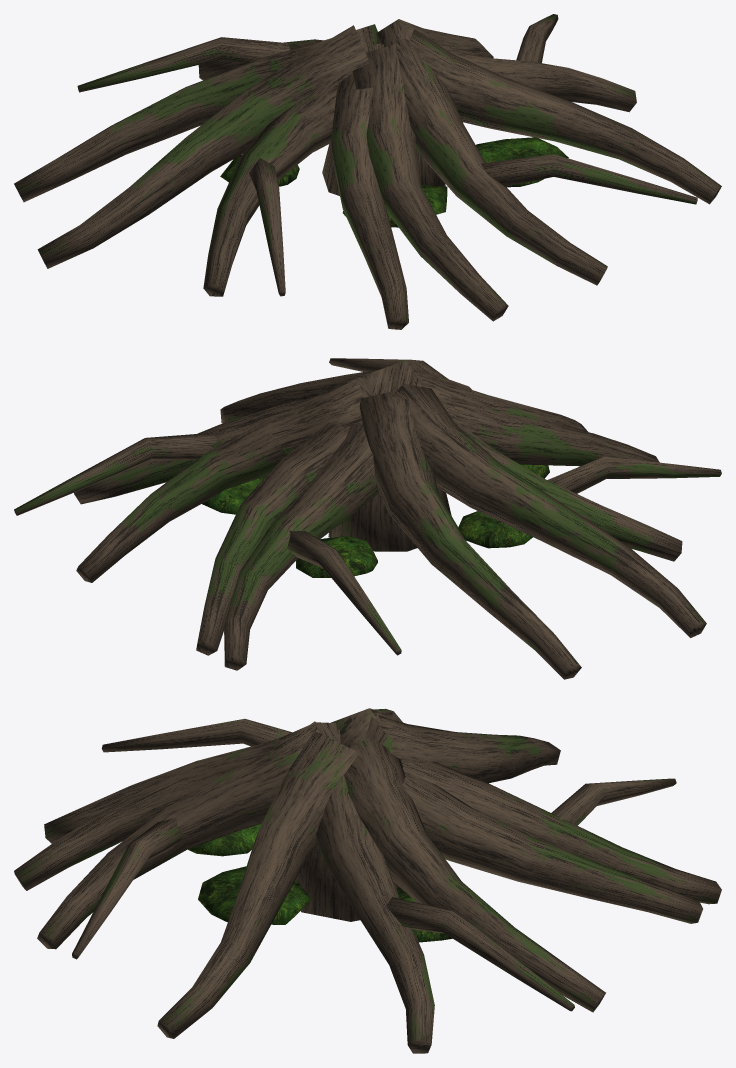
The model's file is Exposed_Roots_B.glb.
3 renders of one model, top to bottom at view 1: azimuth 30°, elevation 25°; view 2: azimuth 150°, elevation 25°; view 3: azimuth 270°, elevation 25°, orthographic. The views are drawn at different scales.
Parts seen in each view (by area): view 1: Exposed_Roots_B__Bark, Exposed_Roots_B__Moss; view 2: Exposed_Roots_B__Bark, Exposed_Roots_B__Moss; view 3: Exposed_Roots_B__Bark, Exposed_Roots_B__Moss.
Part boxes in pixels (bbox=[...]): Exposed_Roots_B__Bark: bbox=[14, 14, 721, 329]; Exposed_Roots_B__Moss: bbox=[220, 137, 568, 227]; Exposed_Roots_B__Bark: bbox=[14, 358, 721, 679]; Exposed_Roots_B__Moss: bbox=[202, 464, 549, 577]; Exposed_Roots_B__Bark: bbox=[14, 708, 721, 1053]; Exposed_Roots_B__Moss: bbox=[188, 824, 452, 942].
Bounding box in the file's own units: 18.68 × 5.12 × 17.25.
2 materials, 2 textured.
